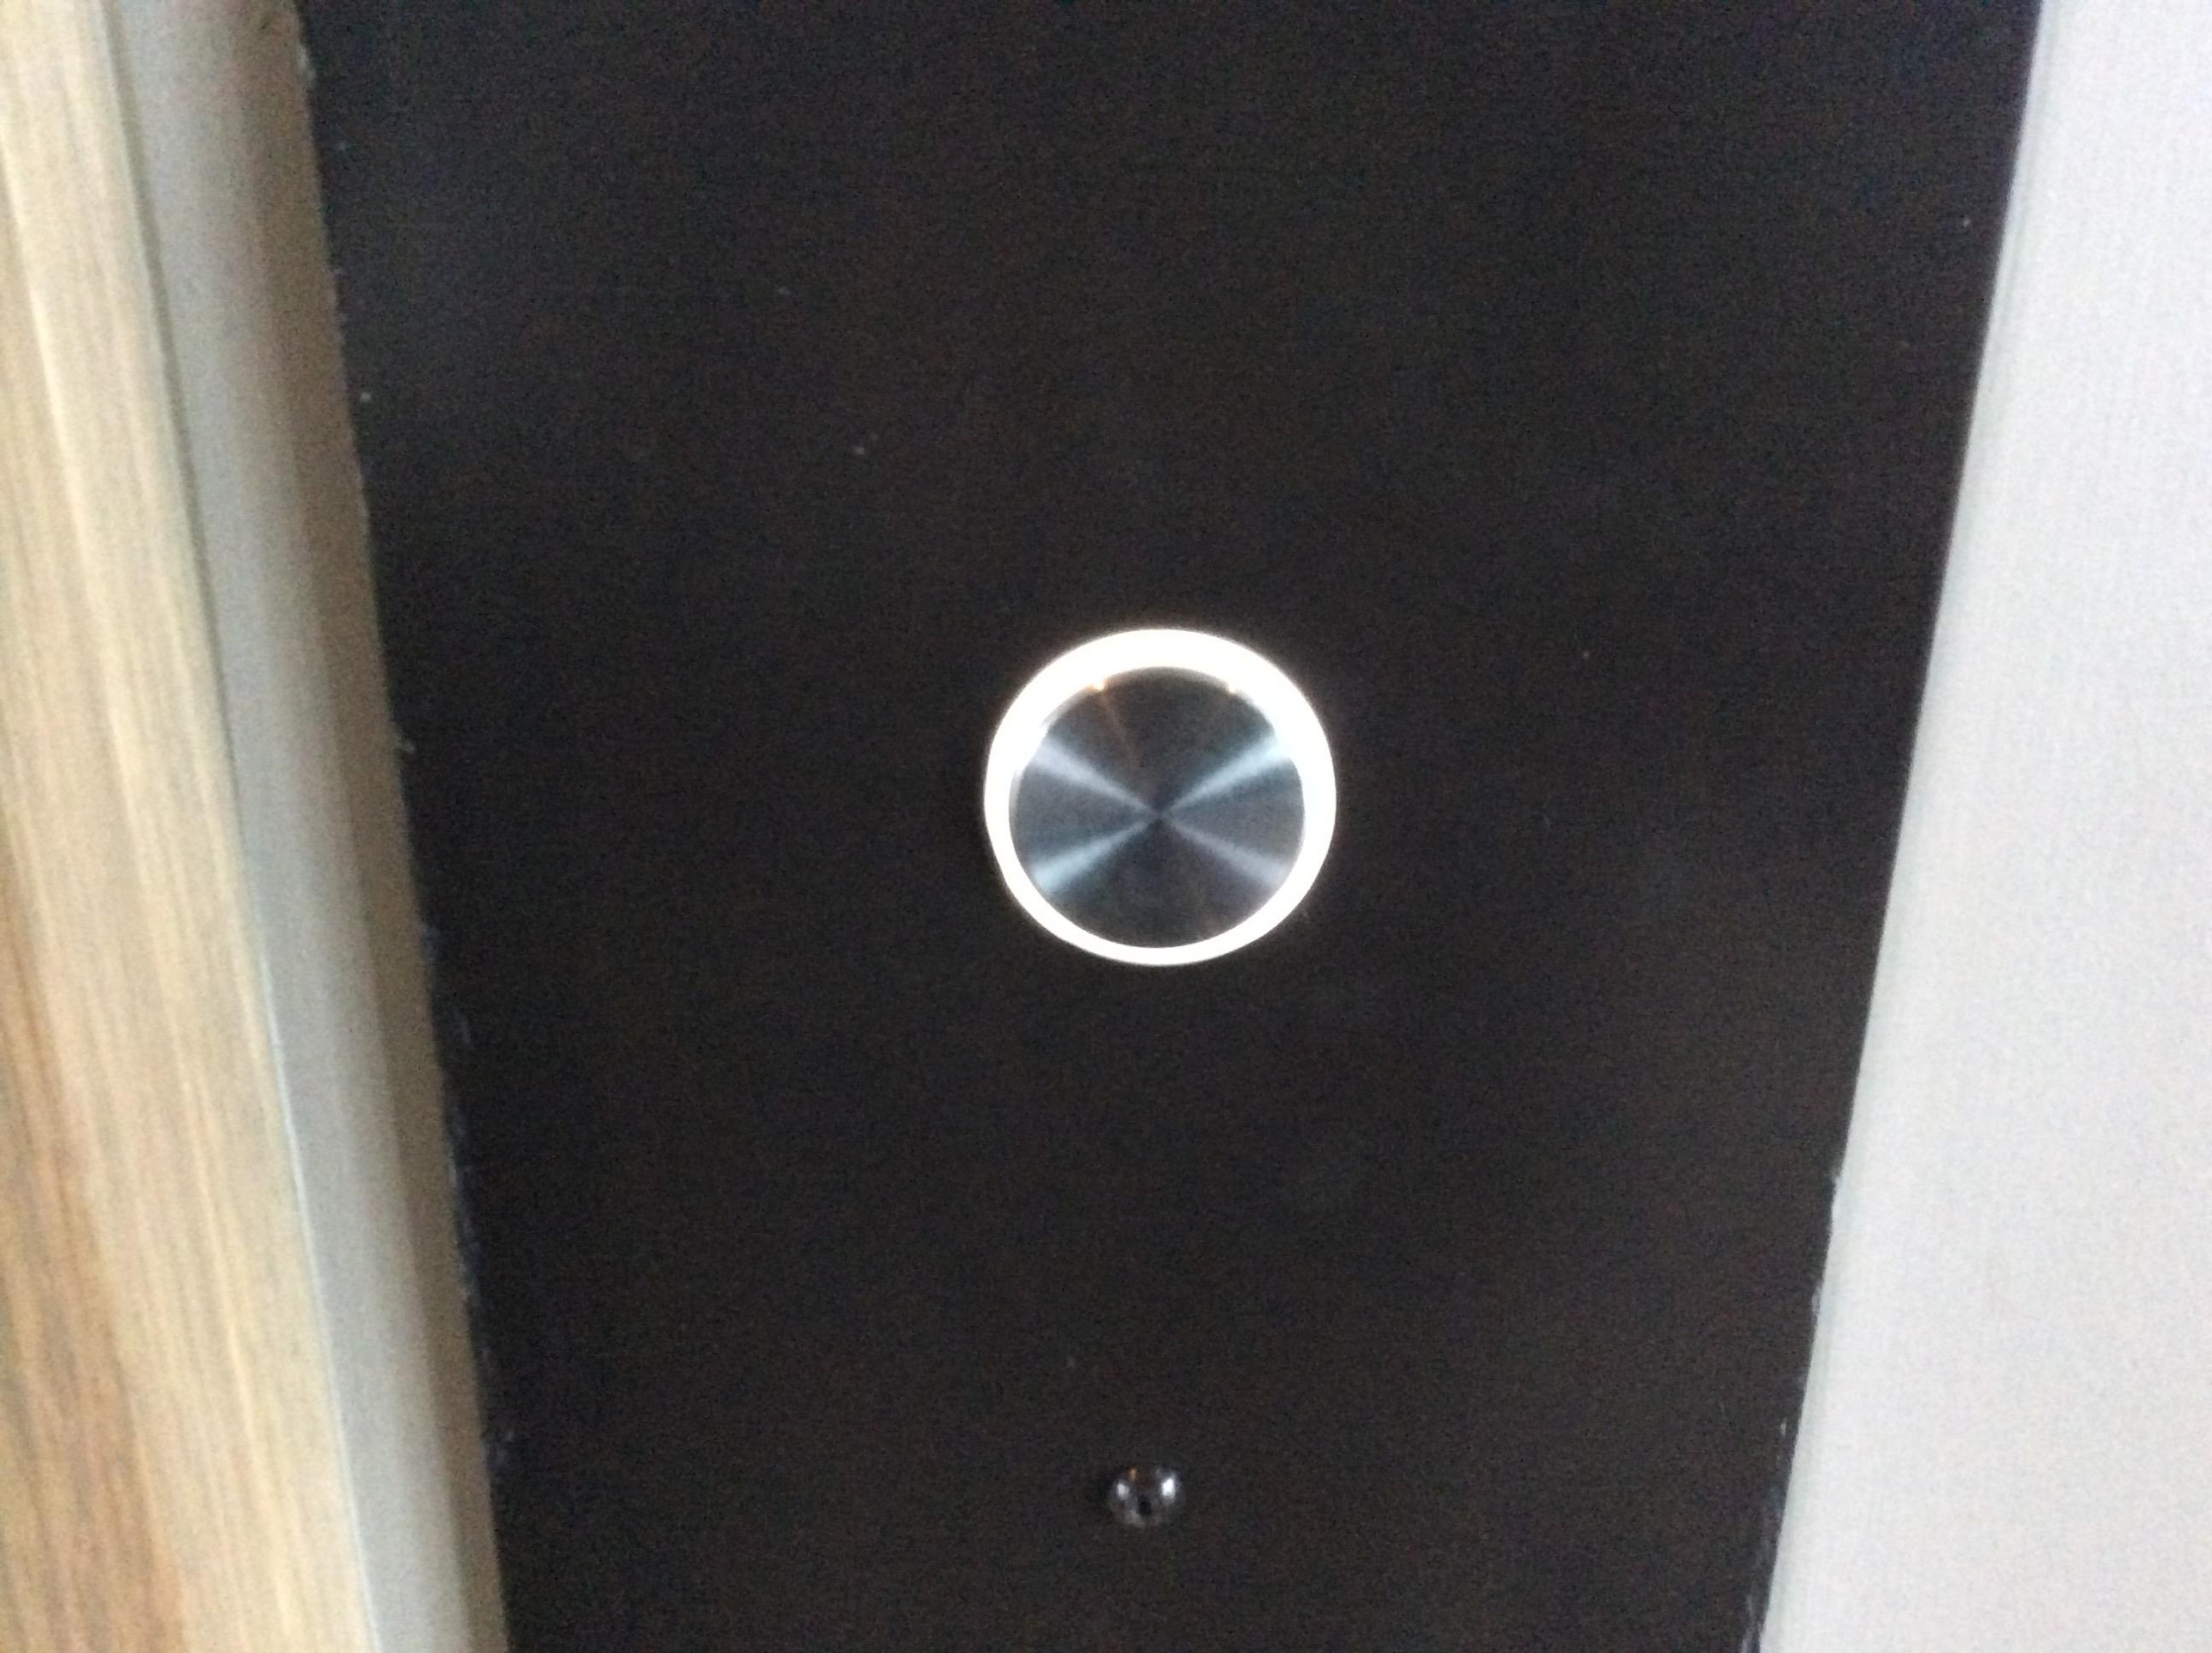empty: (971, 616, 1353, 978)
